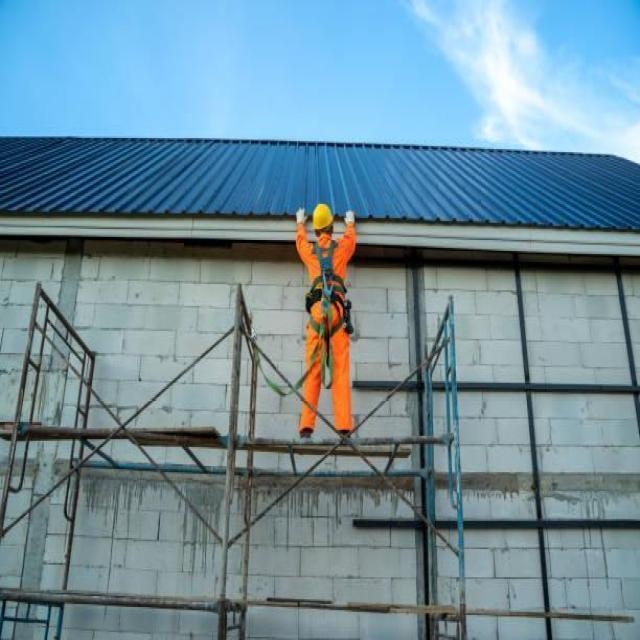Arnes_seguridad: (307, 242, 347, 342)
